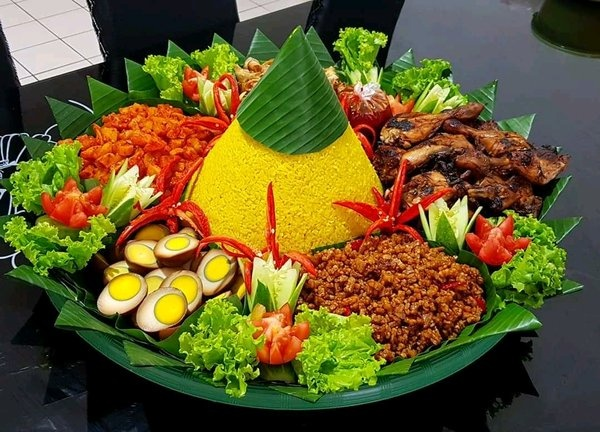nasi_tumpeng: (53, 23, 556, 376)
